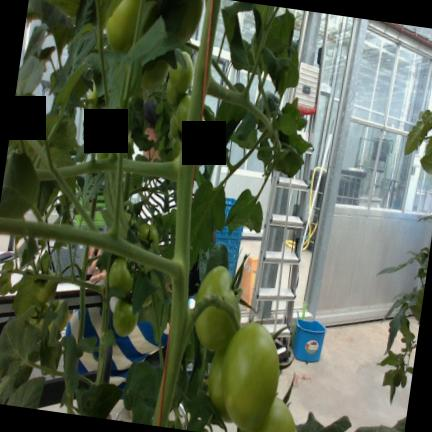6kp_peduncle: (162, 278, 240, 385)
6kp_petiole: (117, 217, 190, 334), (125, 119, 200, 219), (186, 33, 242, 129)
MainStem: (151, 0, 220, 427), (80, 246, 89, 280)
tomato: (221, 322, 279, 429), (194, 265, 235, 350), (239, 396, 295, 432), (207, 349, 231, 422), (106, 0, 139, 52), (169, 51, 193, 93), (112, 299, 138, 335), (108, 257, 133, 294), (141, 59, 169, 89), (47, 299, 71, 332), (34, 269, 56, 304), (136, 222, 159, 251), (175, 94, 190, 133), (29, 302, 49, 331), (166, 78, 178, 106), (172, 135, 182, 158), (169, 112, 178, 137)
